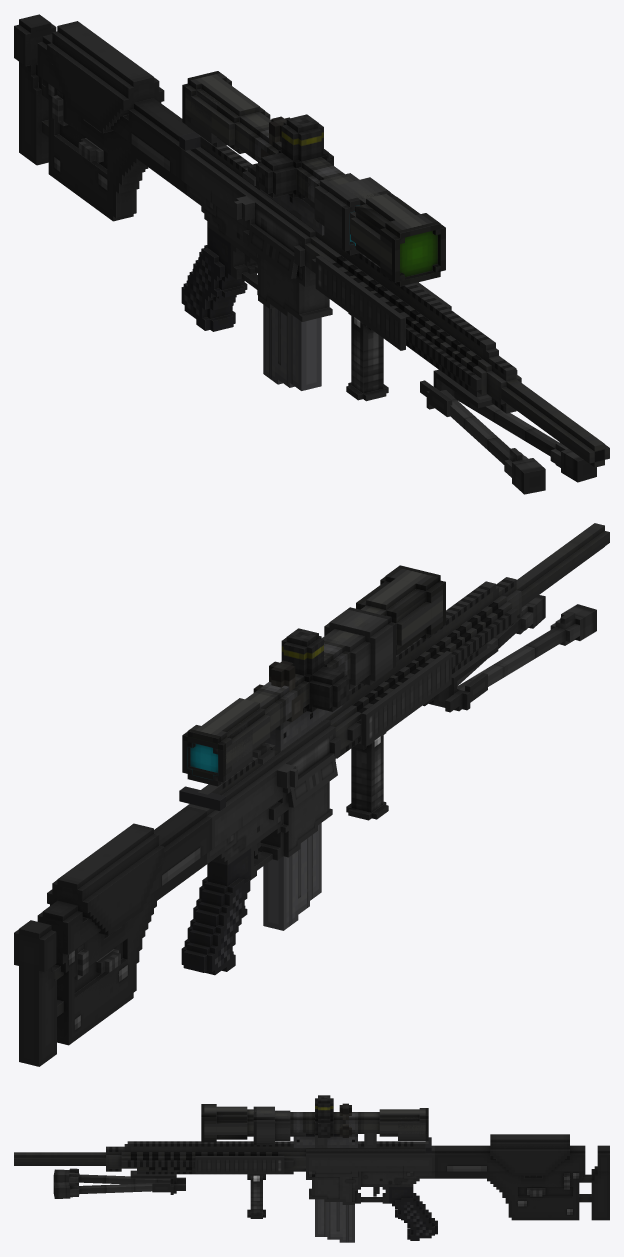
The picture shows the model from 3 angles, top to bottom: view 1: azimuth 30°, elevation 25°; view 2: azimuth 150°, elevation 25°; view 3: azimuth 270°, elevation 25°; orthographic projection. The views are drawn at different scales.
Visible parts, largest first — view 1: SR25, SCOPE_LEUPOLD, SCOPE_SCHMIDT_BENDER, SR25_CLIP, DIPOD2_LEG1, DIPOD2_LEG2, GRIP1, DIPOD2; view 2: SR25, SCOPE_LEUPOLD, SCOPE_SCHMIDT_BENDER, SR25_CLIP, DIPOD2_LEG1, GRIP1, DIPOD2, DIPOD2_LEG2, SR25_BOLT; view 3: SR25, SCOPE_LEUPOLD, SCOPE_SCHMIDT_BENDER, SR25_CLIP, DIPOD2_LEG2, DIPOD2_LEG1, DIPOD2, GRIP1.
Part boxes in pixels (x1,y1,x2,y2): SR25: (14,14,609,467); SCOPE_LEUPOLD: (182,71,445,286); SCOPE_SCHMIDT_BENDER: (182,90,395,255); SR25_CLIP: (263,304,321,390); DIPOD2_LEG1: (440,390,545,494); DIPOD2_LEG2: (454,391,596,482); GRIP1: (346,313,388,401); DIPOD2: (420,369,493,416); SR25: (14,523,609,1066); SCOPE_LEUPOLD: (182,565,445,779); SCOPE_SCHMIDT_BENDER: (182,607,395,786); SR25_CLIP: (263,823,321,930); DIPOD2_LEG1: (457,604,596,691); GRIP1: (346,732,388,820); DIPOD2: (423,643,498,712); DIPOD2_LEG2: (457,595,545,686); SR25_BOLT: (179,786,225,810); SR25: (14,1134,609,1240); SCOPE_LEUPOLD: (201,1095,428,1147); SCOPE_SCHMIDT_BENDER: (253,1103,428,1147); SR25_CLIP: (315,1199,354,1242); DIPOD2_LEG2: (53,1181,152,1198); DIPOD2_LEG1: (53,1168,170,1184); DIPOD2: (130,1170,185,1194); GRIP1: (247,1174,265,1218).
Size of the model in its own units: 0.1489 by 0.502 by 1.91.
5 materials, 5 textured.
